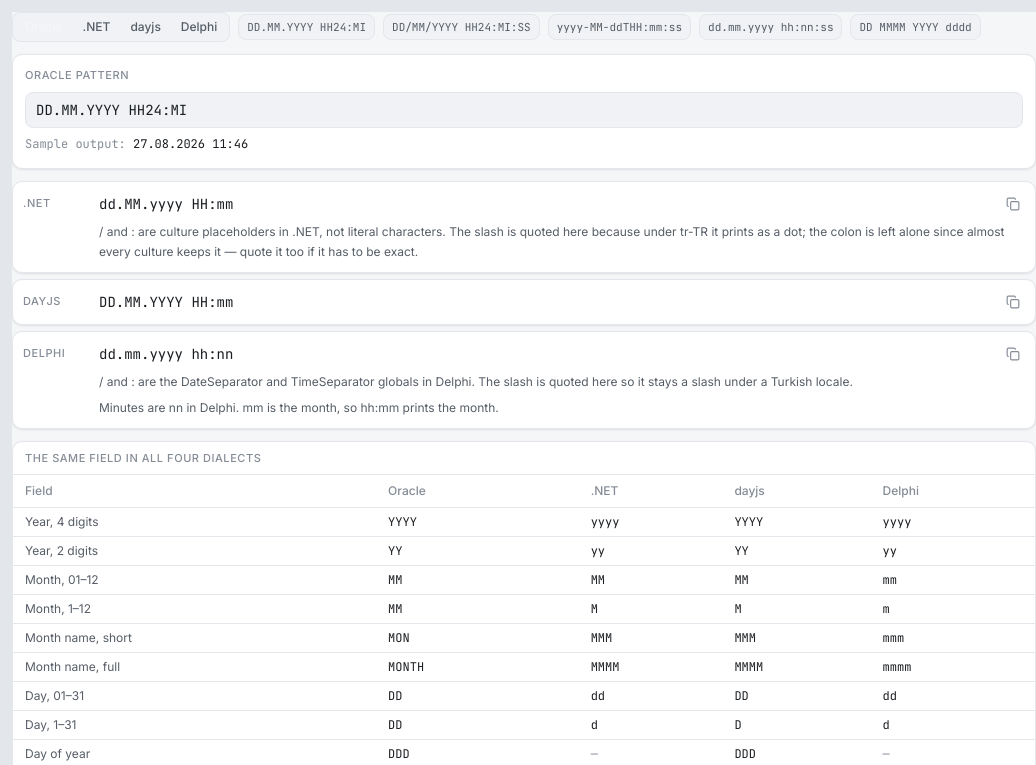
Test: DateFormatTool › yazdıkça çevirileri günceller
The width and height of the screenshot is (1036, 765).
Type "YYYY-MM-DD" into the field at (524, 110), box [25, 92, 1023, 128]
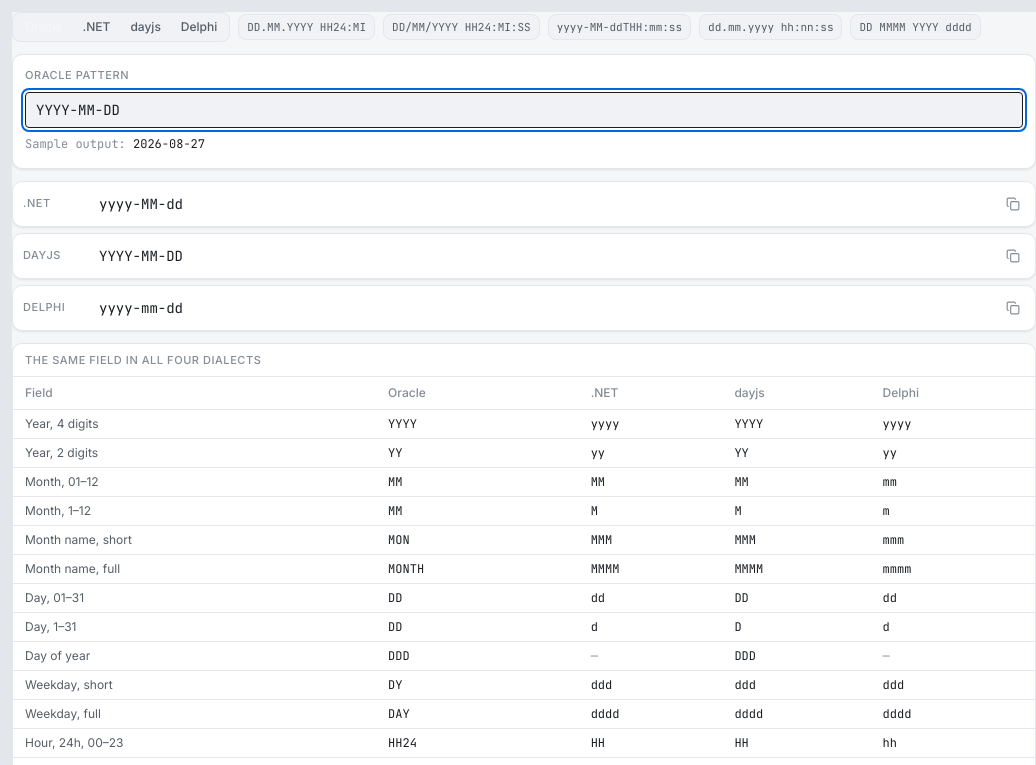
Result: the text "yyyy-MM-dd" is shown at [99, 194, 183, 212]
Result: the text "yyyy-mm-dd" is shown at [99, 298, 183, 316]
